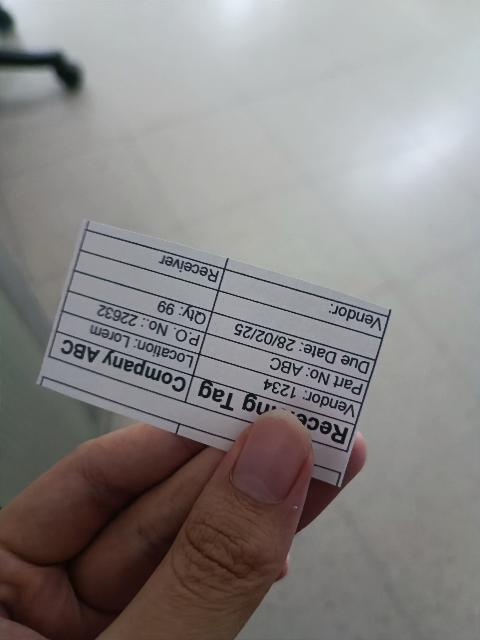PO no: (62, 290, 204, 354)
part no: (204, 333, 366, 403)
qty: (75, 271, 211, 333)
tags: (36, 220, 387, 489)
